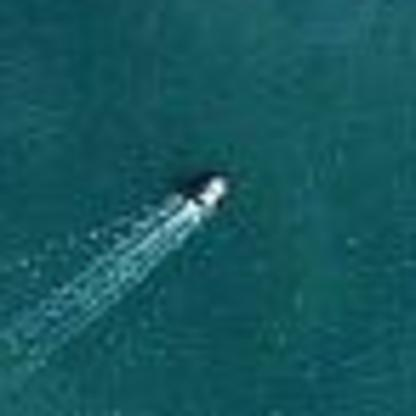ship: (186, 167, 235, 216)
